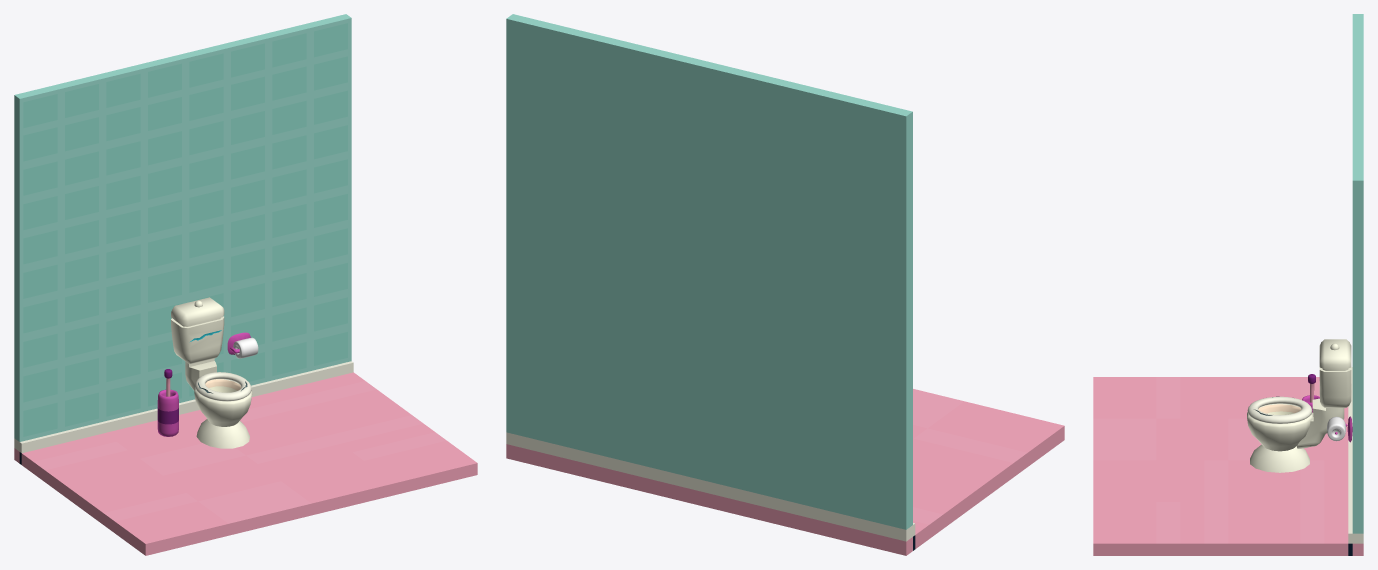
The model's file is ToiletScene.fbx.
The picture shows the model from 3 angles, left to right: view 1: azimuth 30°, elevation 25°; view 2: azimuth 150°, elevation 25°; view 3: azimuth 270°, elevation 25°; orthographic projection. The views are drawn at different scales.
Parts seen in each view (by area): view 1: Walls.002, ToiletBase, ToiletBrush, ToiletBase.001, RollHolder; view 2: Walls.002; view 3: Walls.002, ToiletBase, ToiletBase.001, RollHolder.
Part boxes in pixels (left/top/right/bottom): Walls.002: left=14, top=14, right=477, bottom=555; ToiletBase: left=171, top=297, right=252, bottom=448; ToiletBrush: left=157, top=369, right=178, bottom=436; ToiletBase.001: left=195, top=372, right=251, bottom=401; RollHolder: left=227, top=332, right=258, bottom=358; Walls.002: left=506, top=14, right=1064, bottom=555; Walls.002: left=1093, top=14, right=1363, bottom=555; ToiletBase: left=1247, top=339, right=1351, bottom=472; ToiletBase.001: left=1247, top=396, right=1312, bottom=423; RollHolder: left=1327, top=416, right=1352, bottom=442.
Bounding box in the file's own units: 884 × 929 × 606.
